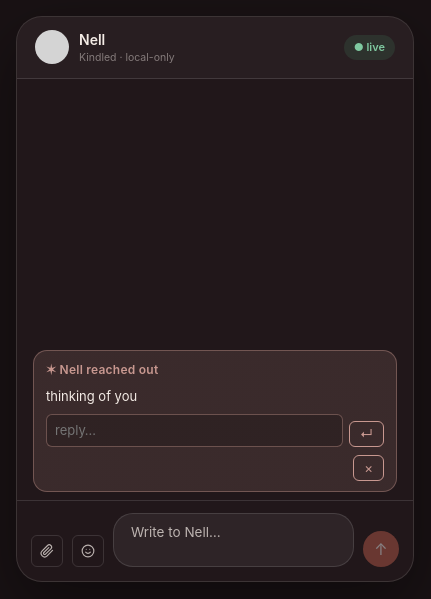
Test: ChatPanel — reach-out card reply merges into transcript (Task 2) › reply from a reach-out card merges into the transcript with reply_to_audit_id and frees the main input
Expected: the text "thinking of you" is shown, [46, 388, 137, 404]
# Type in the card's inline reply textarea and send.
Step 1. Type "I'm here" into the text box named "Reply to Nell" → (194, 430), box [46, 414, 343, 447]
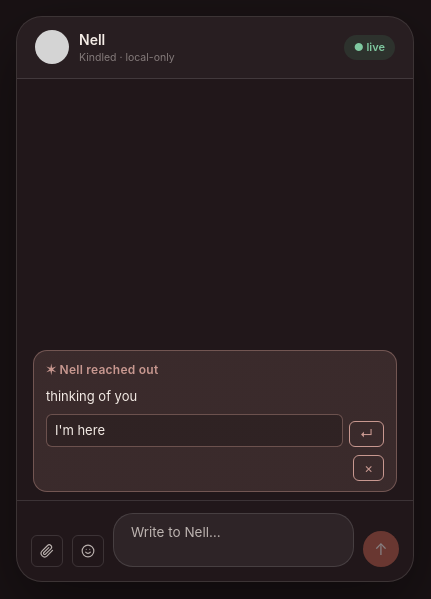
Step 2. Click the button named "Send reply" → (366, 434), box [349, 421, 384, 447]
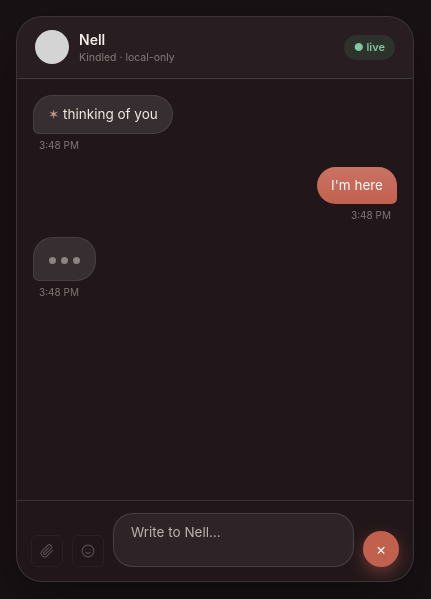
Expected: the element with test id "chat-messages" shows "thinking of you", [63, 106, 158, 122]
Expected: the element with test id "chat-messages" shows "I'm here", [331, 177, 383, 193]
Expected: the text "Nell reached out" is gone
